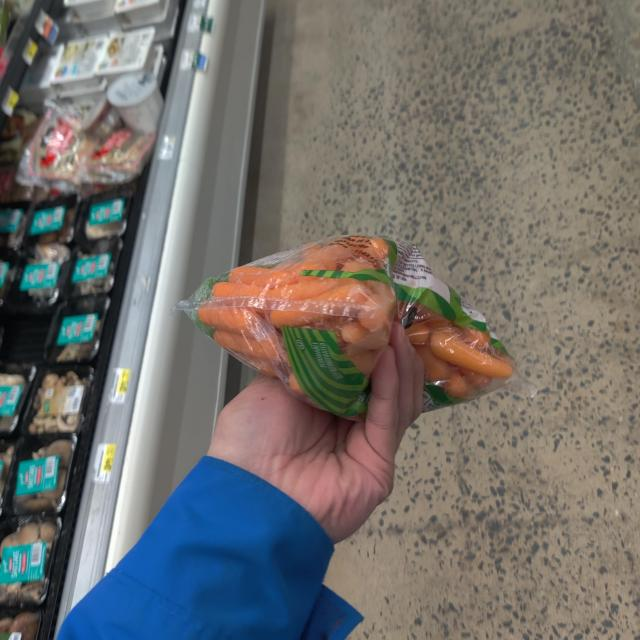Carrots: (180, 230, 521, 429)
Mushrooms: (0, 513, 62, 602), (16, 436, 80, 514), (30, 365, 86, 431), (50, 300, 111, 359), (68, 236, 117, 292)
